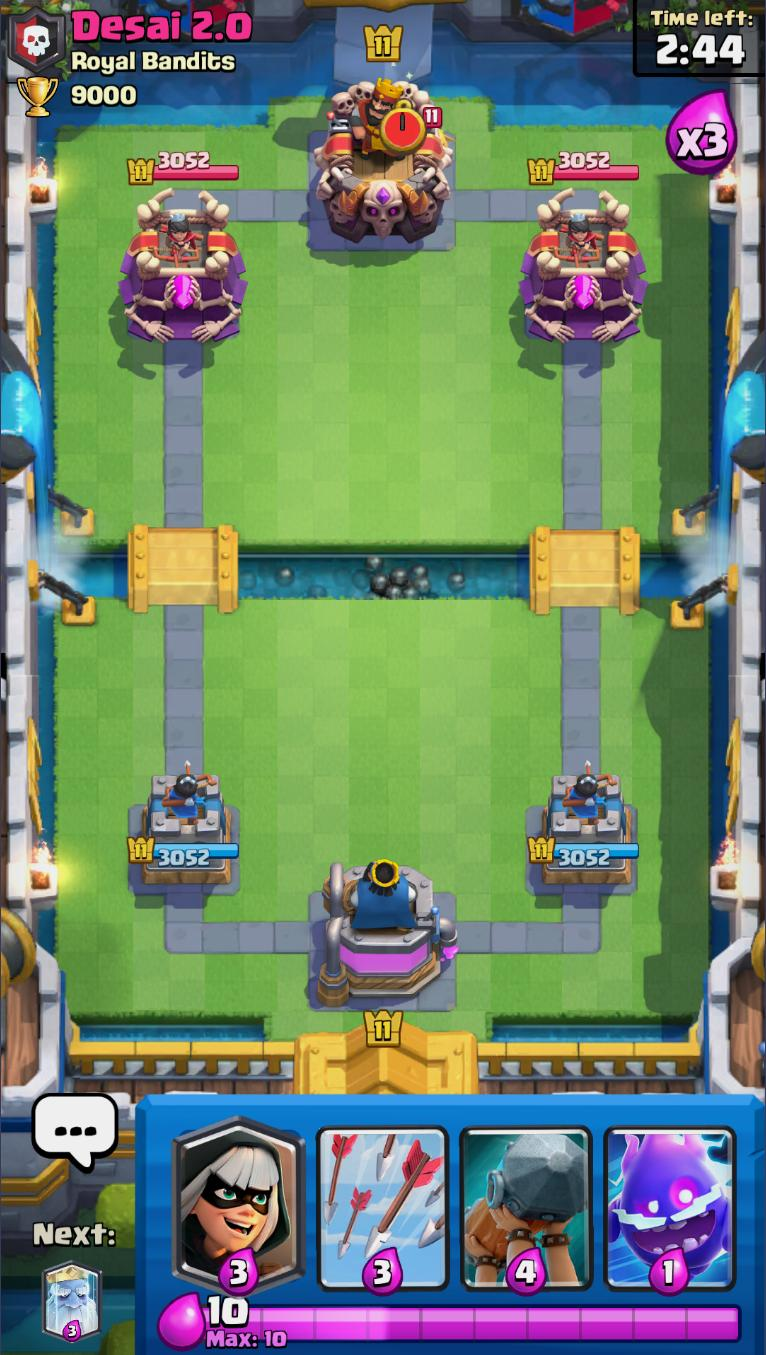ArrowDeck: (309, 1098, 455, 1292)
BanditDeck: (165, 1096, 314, 1294)
BattleRamDeck: (453, 1097, 599, 1296)
ElectroSpiritDeck: (598, 1095, 748, 1298)
Elixir: (204, 1290, 254, 1330)
EnemyTower: (117, 184, 252, 348), (518, 188, 650, 346)
KingTower: (309, 79, 459, 248)
MyKingTower: (310, 855, 463, 1018)
MyPrincessTower: (131, 761, 240, 893), (533, 771, 641, 893)
MyPrincessTowerHP: (526, 831, 640, 868), (126, 836, 241, 869)
PrincessTower: (550, 212, 608, 272), (147, 210, 208, 265)
RoyaleGhostNext: (41, 1256, 103, 1343)
TowerPrincessHP: (524, 150, 641, 188), (125, 149, 242, 185)
